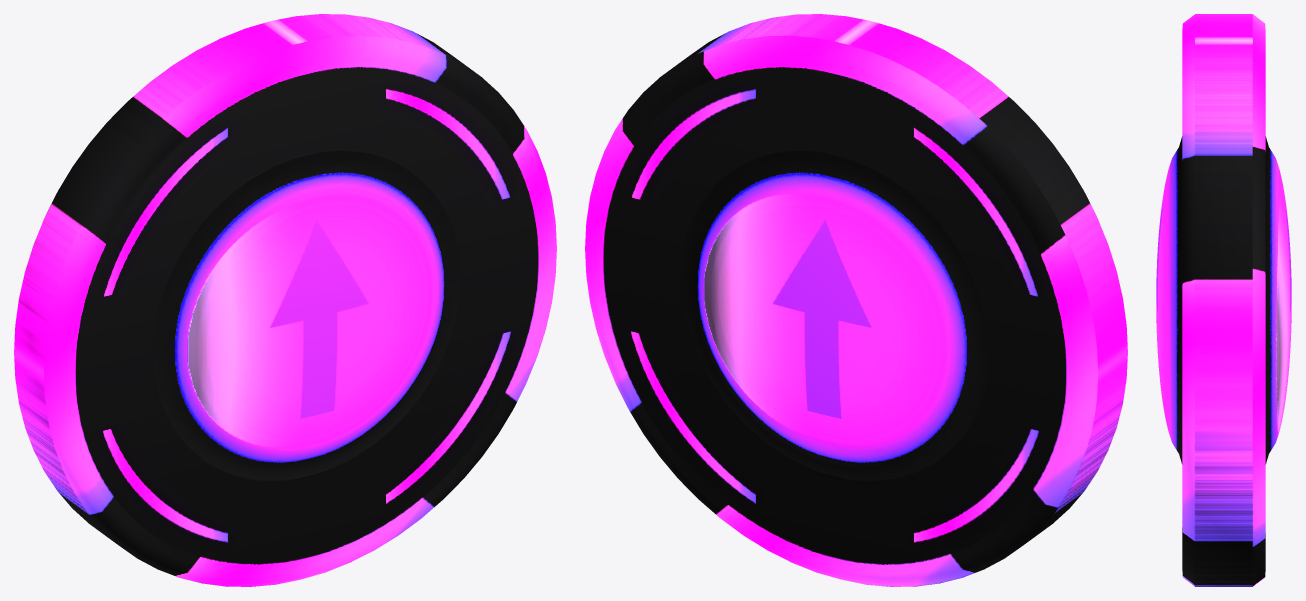
Rendered from bonus_jump.glb.
3 renders of one model, left to right at view 1: azimuth 30°, elevation 25°; view 2: azimuth 150°, elevation 25°; view 3: azimuth 270°, elevation 25°, orthographic. The views are drawn at different scales.
Parts seen in each view (by area): view 1: bonus_jump; view 2: bonus_jump; view 3: bonus_jump.
Boxes of the visible parts, box(x1,y1,x2,y2) form: bonus_jump: box(14, 14, 556, 586); bonus_jump: box(585, 14, 1127, 586); bonus_jump: box(1156, 14, 1291, 586).
Size of the model in its own units: 1.1 by 1.1 by 0.26.
Materials: 1 (1 with a texture image).
